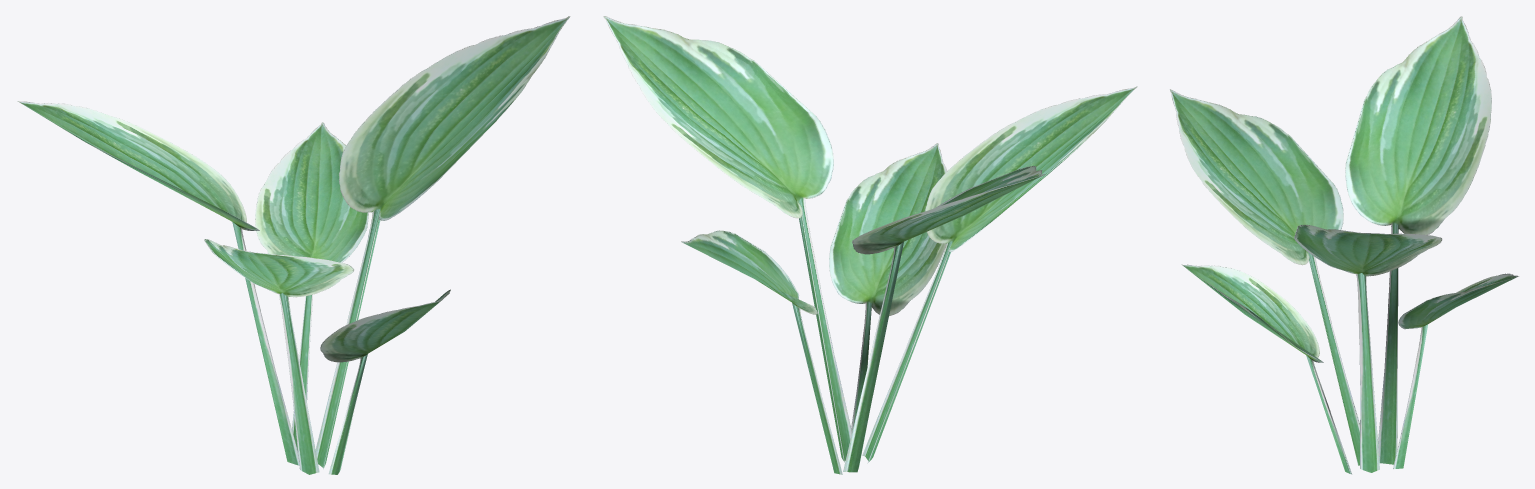
The model's file is plant_small_wg_03.fbx.
3 renders of one model, left to right at view 1: azimuth 30°, elevation 25°; view 2: azimuth 150°, elevation 25°; view 3: azimuth 270°, elevation 25°, orthographic. The views are drawn at different scales.
Parts seen in each view (by area): view 1: plant_small_wg_03; view 2: plant_small_wg_03; view 3: plant_small_wg_03.
Part boxes in pixels (x1,y1,x2,y2): plant_small_wg_03: (17,16,570,474); plant_small_wg_03: (603,16,1137,474); plant_small_wg_03: (1170,16,1518,474).
Size of the model in its own units: 55.45 by 40.91 by 37.69.
